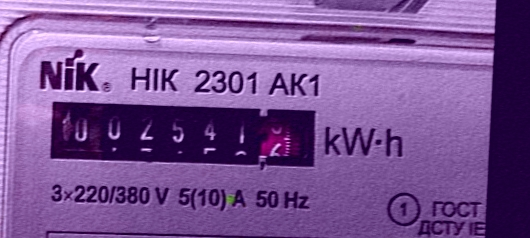0: (102, 109, 122, 143), (70, 113, 89, 143)
1: (230, 112, 247, 146)
2: (132, 109, 155, 144)
4: (199, 112, 217, 143)
5: (166, 113, 184, 146)
6: (264, 138, 281, 159)
screen: (32, 83, 336, 187)
